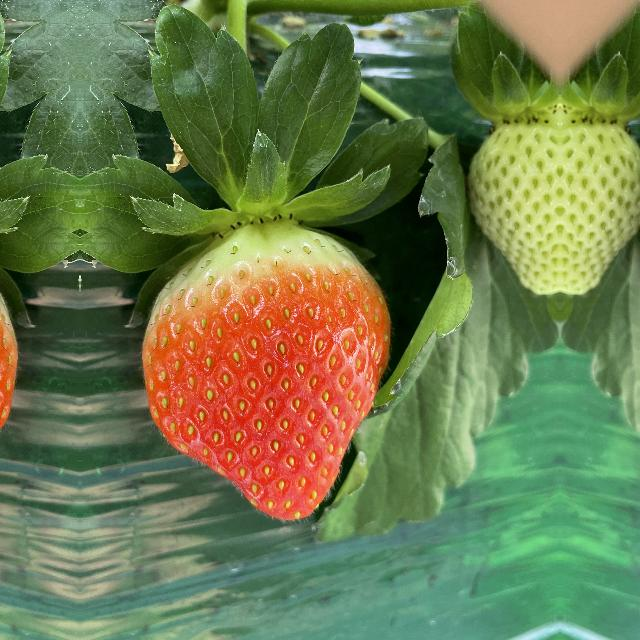Health_100: (128, 216, 398, 524)
Health_25: (465, 106, 559, 294), (561, 106, 640, 293)
